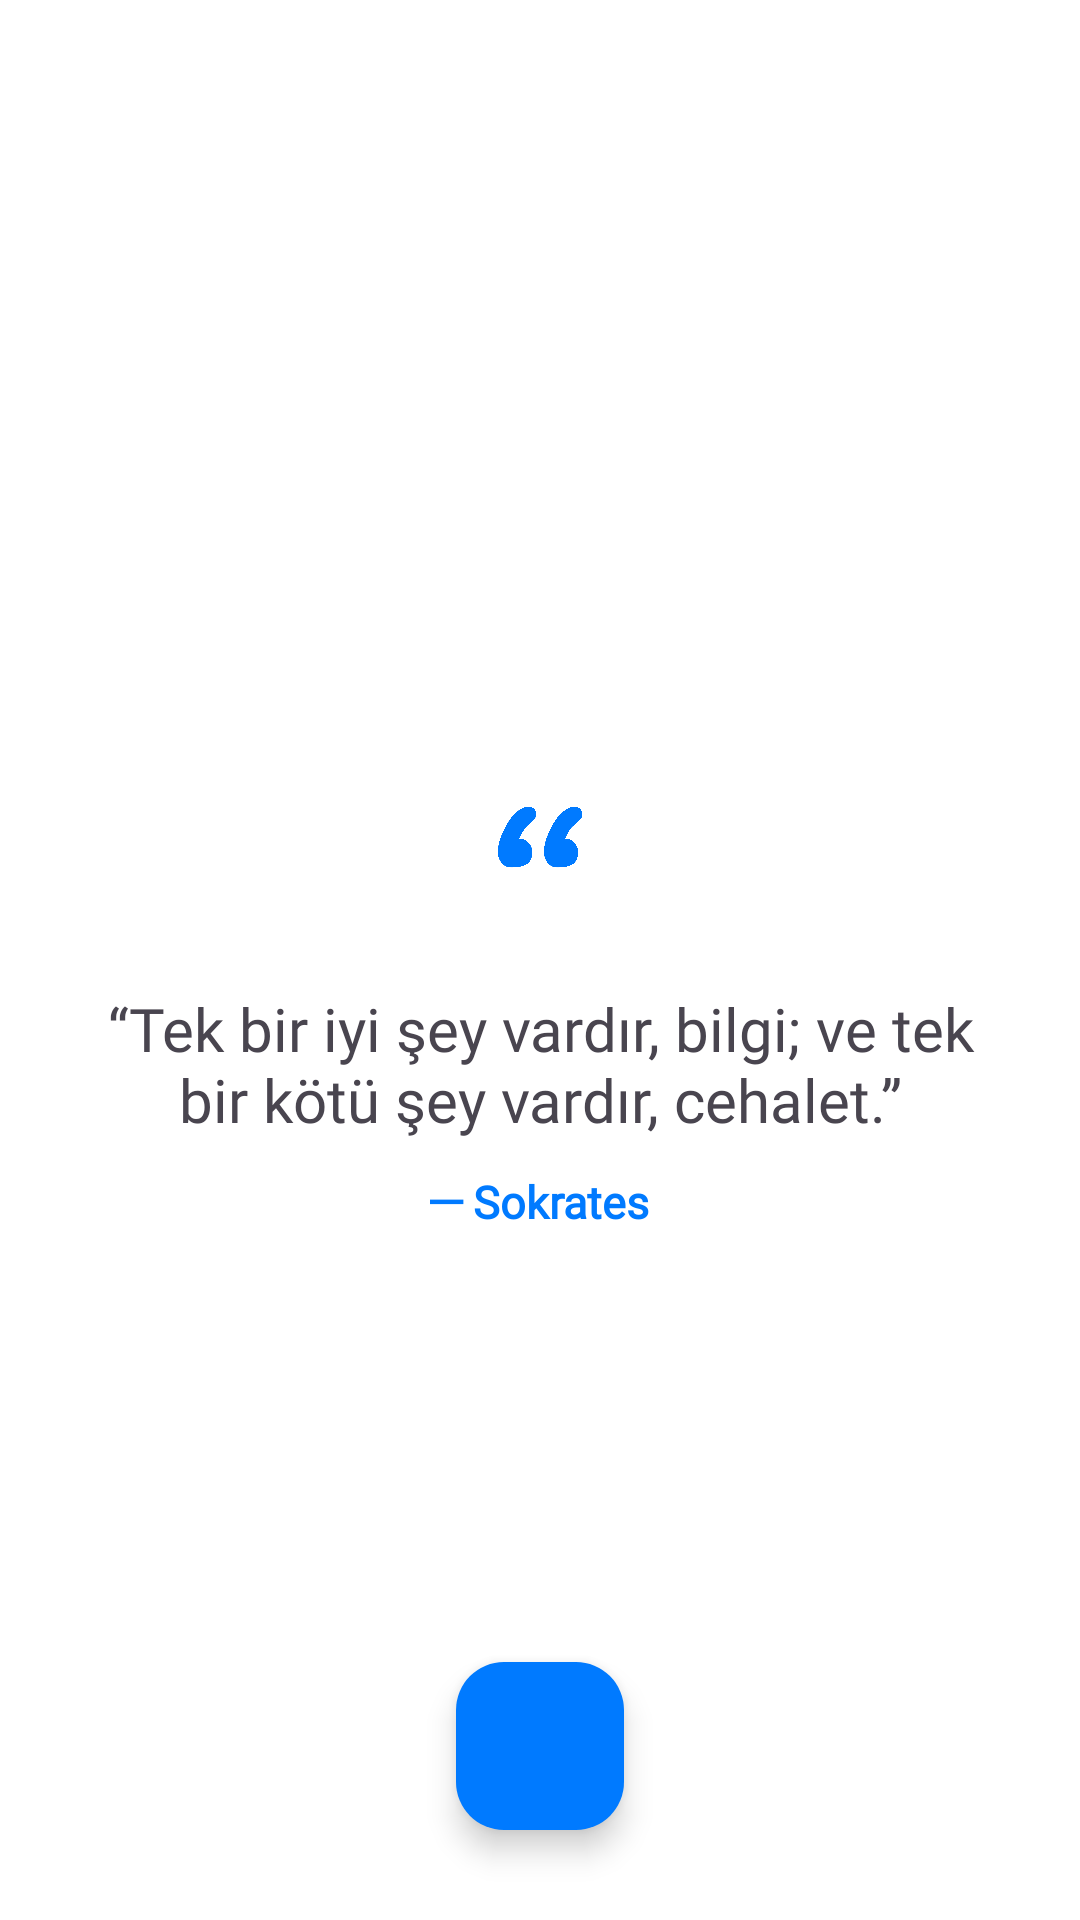

Icon bounding boxes for this 1080px x 1920px phone screenshot, format (x1, y1, x2, y2):
quote: (498, 807, 582, 867)
